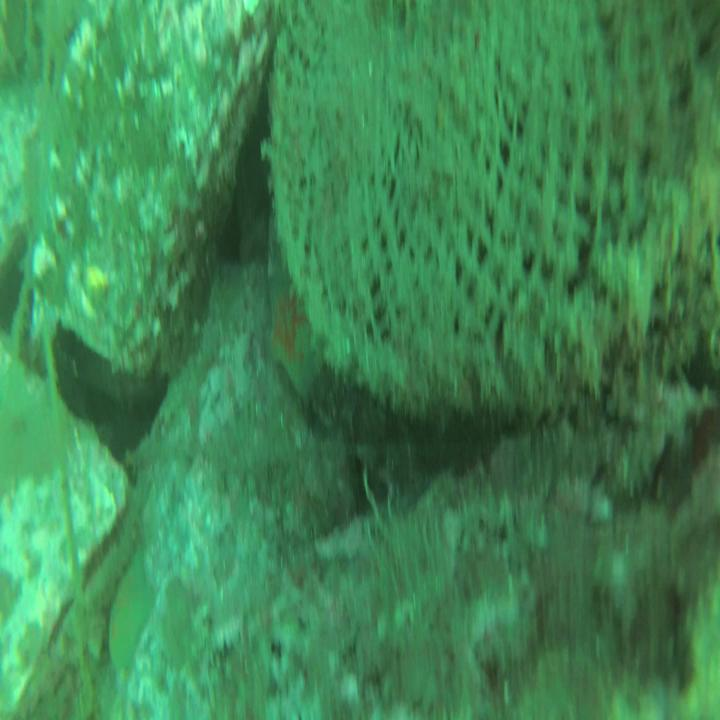starfish: (266, 265, 332, 413), (104, 544, 160, 691)
